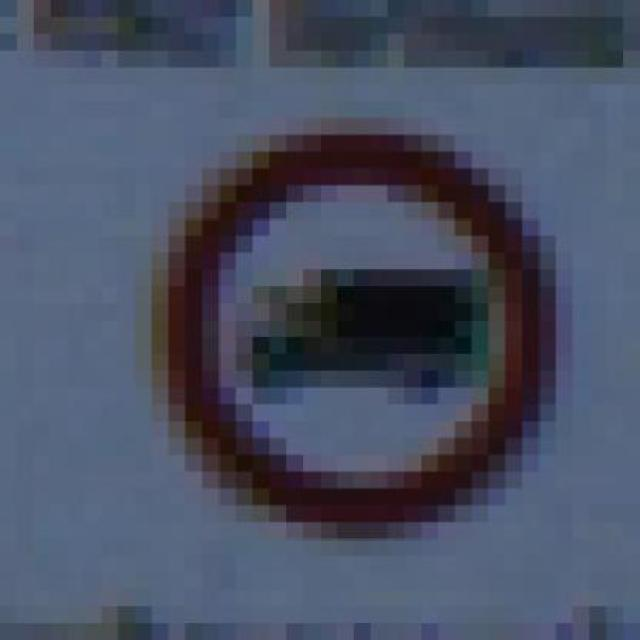Truck traffic is prohibited: (118, 84, 573, 539)
